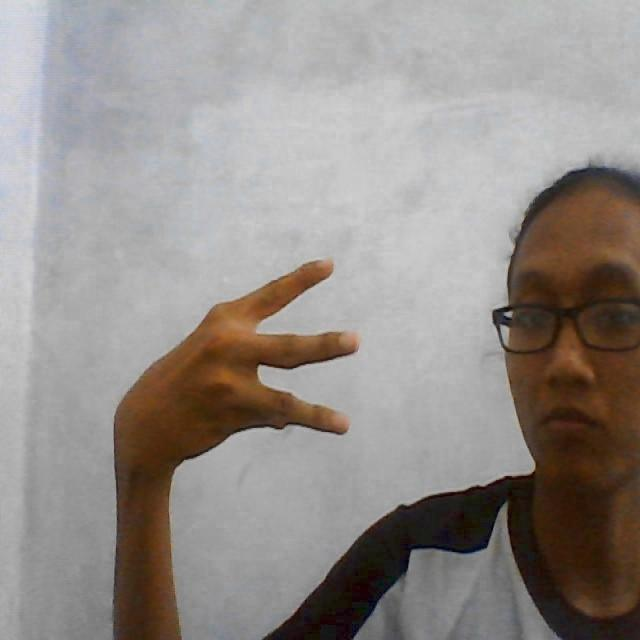E: (102, 247, 367, 495)
